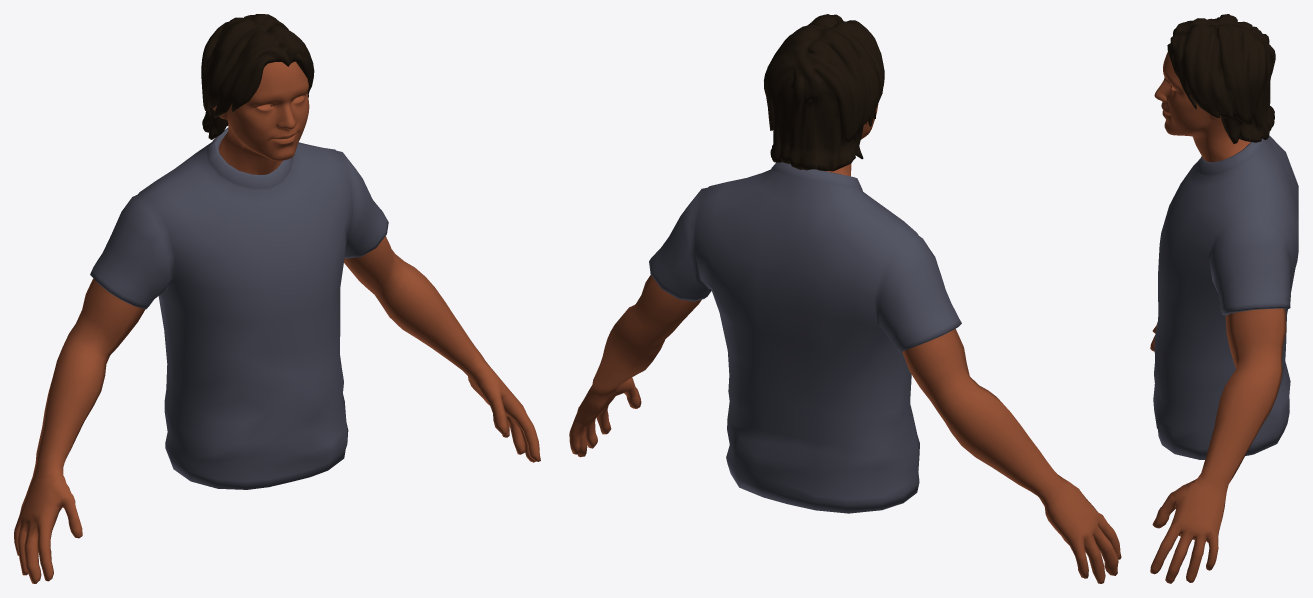
Rendered from man3_upperBody.glb.
The picture shows the model from 3 angles, left to right: view 1: azimuth 30°, elevation 25°; view 2: azimuth 150°, elevation 25°; view 3: azimuth 270°, elevation 25°; orthographic projection. The views are drawn at different scales.
Visible parts, largest first — view 1: Wolf3D_Outfit_Top.001, Wolf3D_Body.007, Wolf3D_Hair, Wolf3D_Body.009, Wolf3D_Head.001, Wolf3D_Body.008, Wolf3D_Body.010; view 2: Wolf3D_Outfit_Top.001, Wolf3D_Hair, Wolf3D_Body.007, Wolf3D_Body.009, Wolf3D_Body.008, Wolf3D_Body.010; view 3: Wolf3D_Outfit_Top.001, Wolf3D_Hair, Wolf3D_Body.009, Wolf3D_Body.010, Wolf3D_Head.001.
Boxes of the visible parts, bbox=[...] form: Wolf3D_Outfit_Top.001: bbox=[90, 128, 388, 489]; Wolf3D_Body.007: bbox=[34, 278, 145, 474]; Wolf3D_Hair: bbox=[201, 14, 314, 139]; Wolf3D_Body.009: bbox=[344, 236, 485, 376]; Wolf3D_Head.001: bbox=[213, 61, 309, 174]; Wolf3D_Body.008: bbox=[14, 468, 82, 583]; Wolf3D_Body.010: bbox=[468, 361, 540, 462]; Wolf3D_Outfit_Top.001: bbox=[649, 162, 961, 513]; Wolf3D_Hair: bbox=[764, 14, 884, 171]; Wolf3D_Body.007: bbox=[902, 329, 1063, 506]; Wolf3D_Body.009: bbox=[590, 275, 701, 397]; Wolf3D_Body.008: bbox=[1044, 479, 1121, 583]; Wolf3D_Body.010: bbox=[569, 377, 641, 457]; Wolf3D_Outfit_Top.001: bbox=[1153, 135, 1298, 459]; Wolf3D_Hair: bbox=[1167, 14, 1275, 143]; Wolf3D_Body.009: bbox=[1195, 308, 1286, 491]; Wolf3D_Body.010: bbox=[1150, 479, 1226, 583]; Wolf3D_Head.001: bbox=[1154, 52, 1250, 162].
Bounding box in the file's own units: 10.29 × 9.33 × 2.79.
3 materials, 1 textured.
